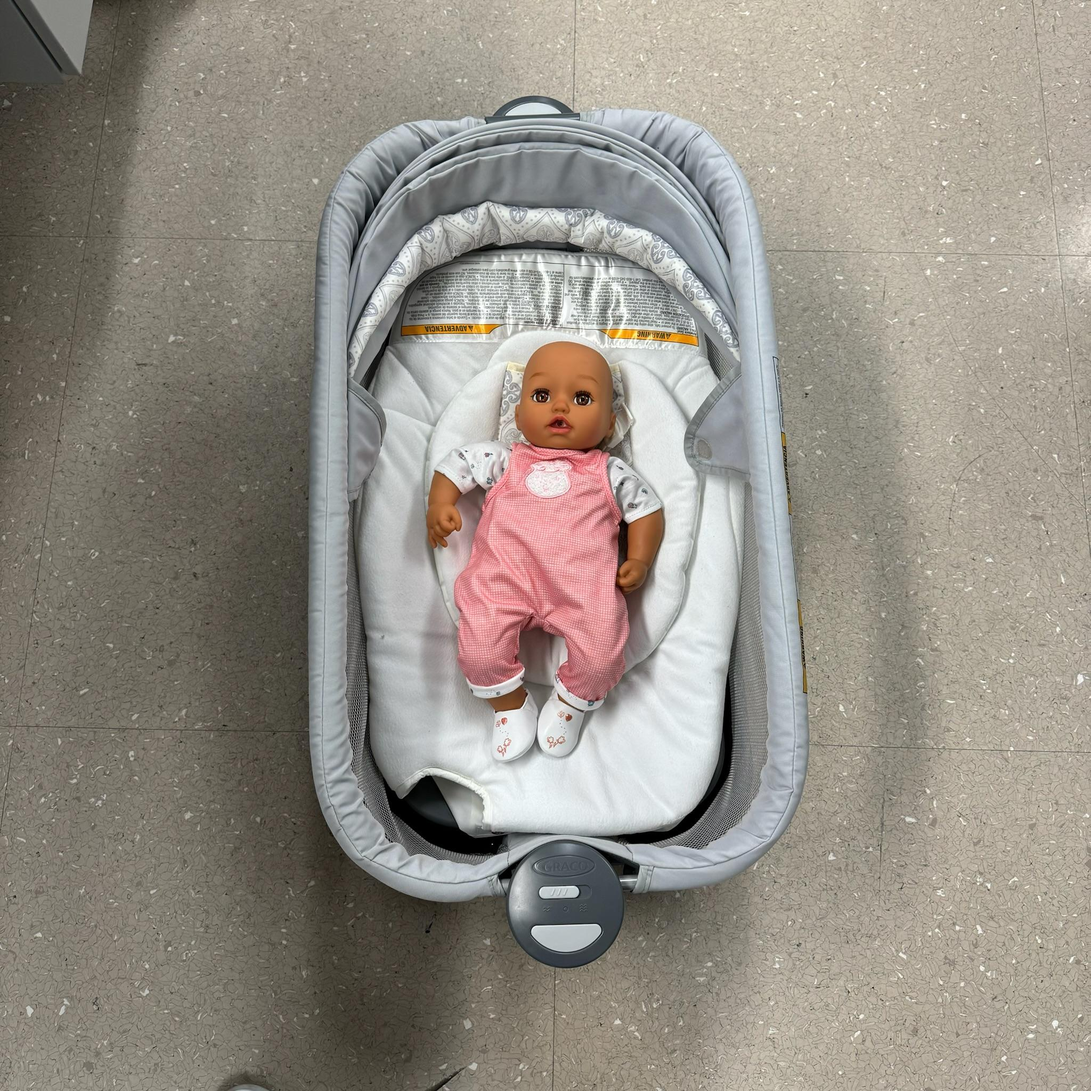baby: (416, 336, 670, 775)
